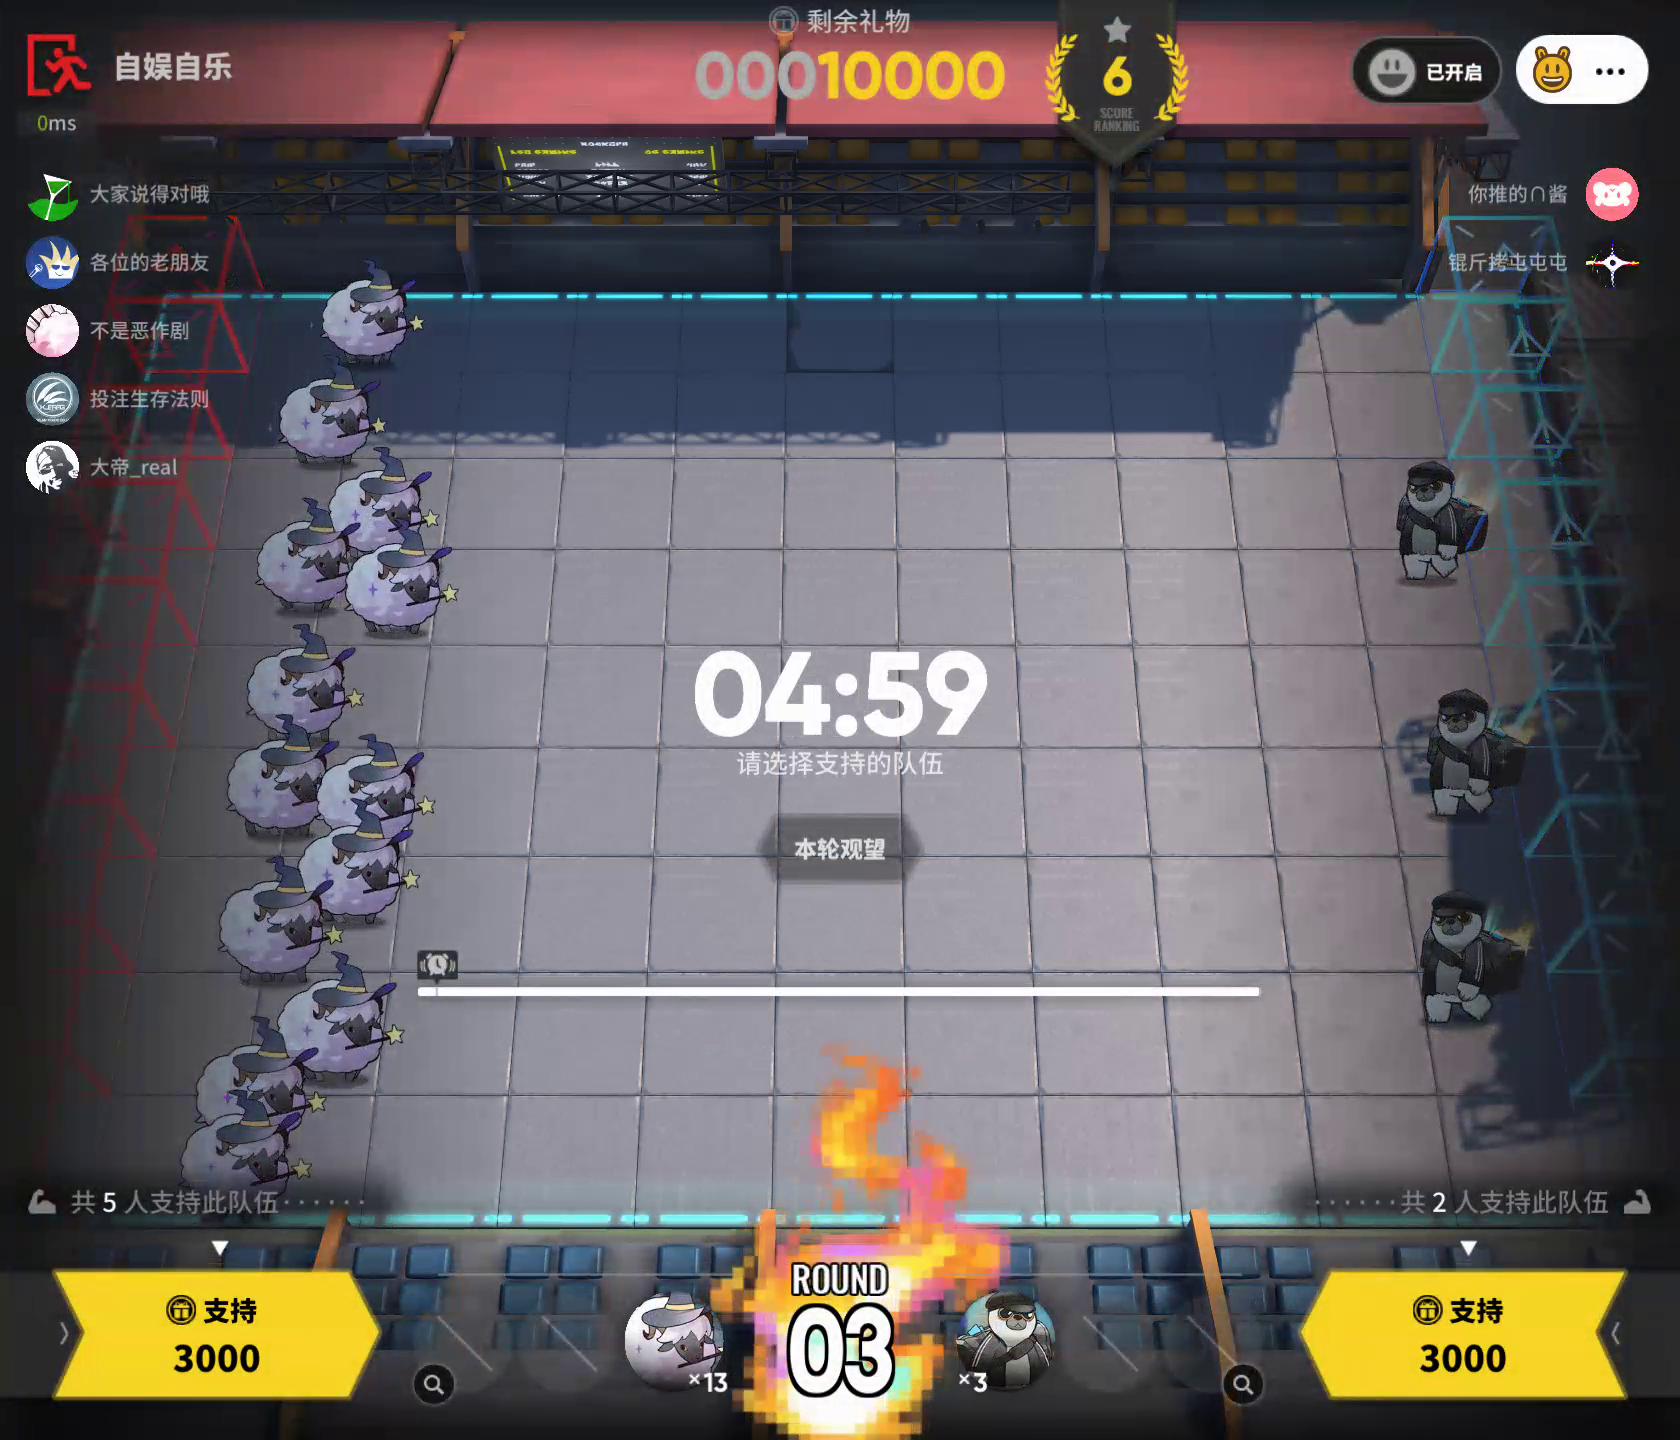小寄居蟹: (167, 1084, 321, 1219), (271, 946, 407, 1090), (214, 851, 346, 989), (231, 619, 369, 746), (191, 1006, 331, 1130), (294, 794, 421, 929), (214, 711, 341, 841), (346, 514, 461, 644), (246, 491, 360, 621), (319, 730, 439, 851), (309, 256, 431, 371), (270, 351, 389, 469), (327, 441, 444, 554), (620, 1283, 736, 1394)
高普尼克: (1409, 883, 1539, 1041), (1411, 684, 1530, 826), (1390, 449, 1497, 587), (956, 1290, 1059, 1393)
